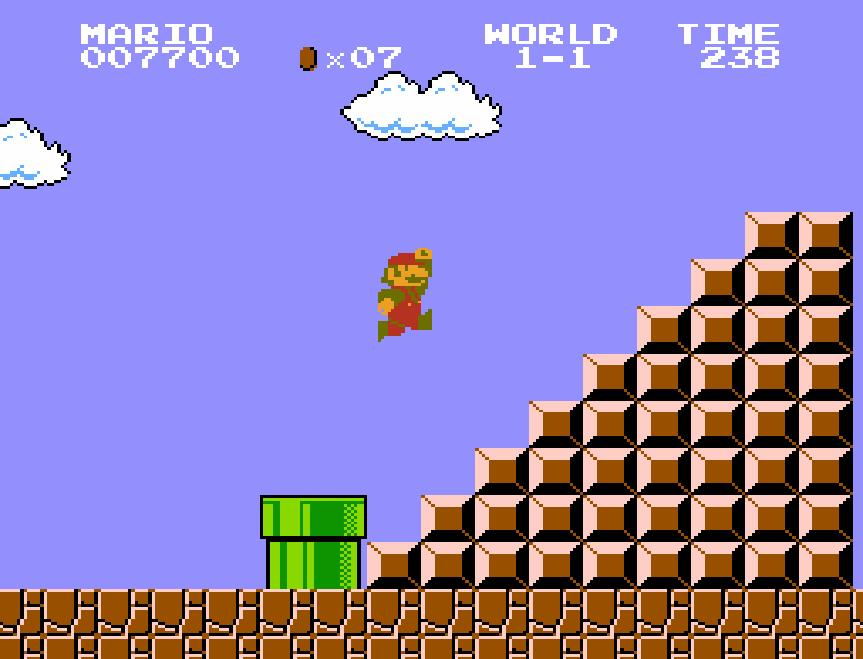big_mario: (376, 245, 434, 343)
